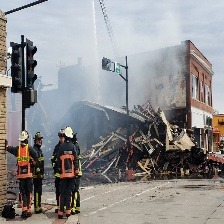smoke: (33, 1, 185, 123)
